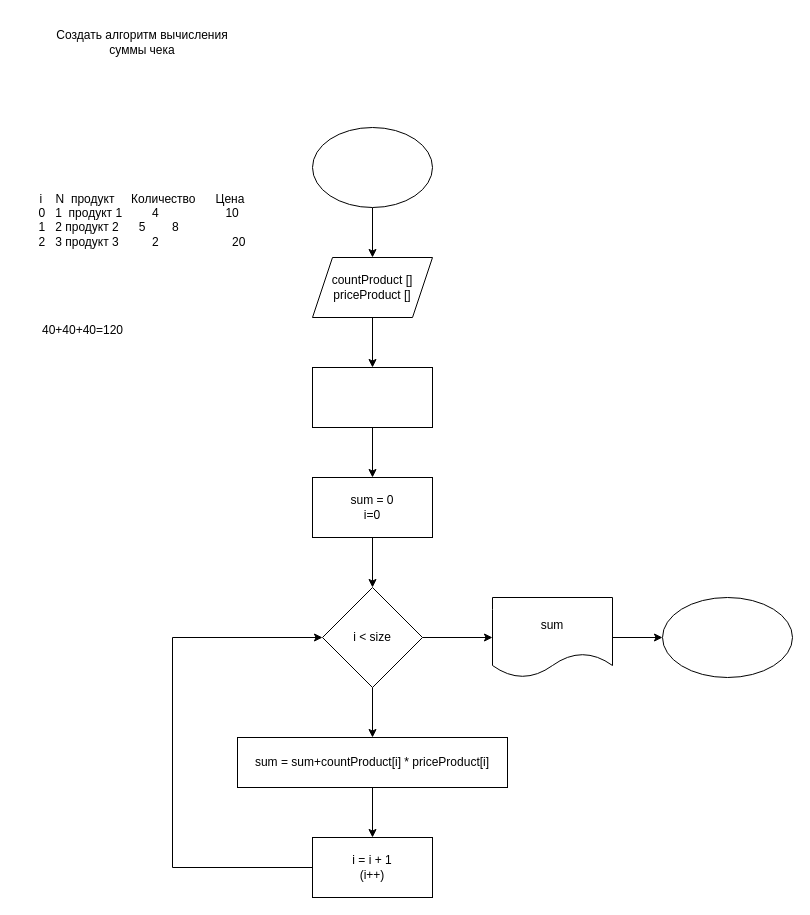
Image size: 810x915. Some labels were removed from this diagram. Here are the shapes that lost their labels. From the top down, the centre of each, then its label:
At point 372,167: "Stsrt".
At point 372,397: "size = countProduct.Length".
At point 727,637: "end".
